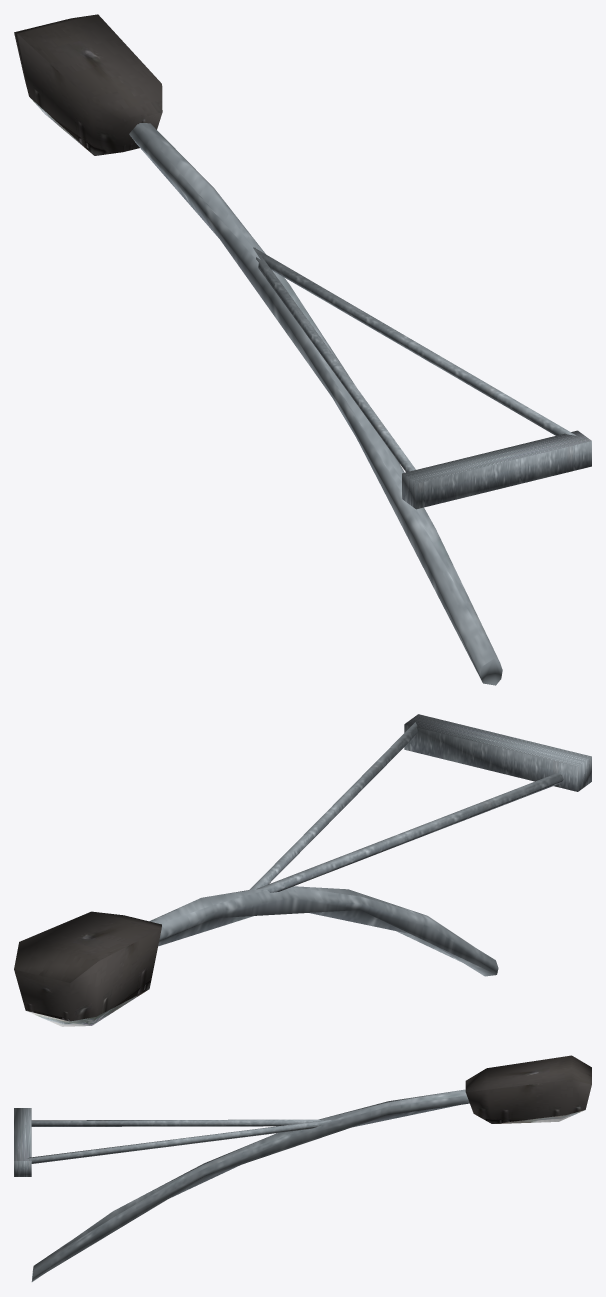
The model's file is streetSconce_1.fbx.
The picture shows the model from 3 angles, top to bottom: view 1: azimuth 30°, elevation 25°; view 2: azimuth 150°, elevation 25°; view 3: azimuth 270°, elevation 25°; orthographic projection. The views are drawn at different scales.
Parts seen in each view (by area): view 1: streetlightA0; view 2: streetlightA0, lens0; view 3: streetlightA0, lens0.
Part boxes in pixels (left/top/right/bottom): streetlightA0: left=14, top=14, right=591, bottom=685; streetlightA0: left=14, top=714, right=591, bottom=1021; lens0: left=27, top=990, right=147, bottom=1026; streetlightA0: left=14, top=1055, right=591, bottom=1281; lens0: left=495, top=1110, right=584, bottom=1123.
Bounding box in the file's own units: 0.759 × 1.42 × 3.48.
